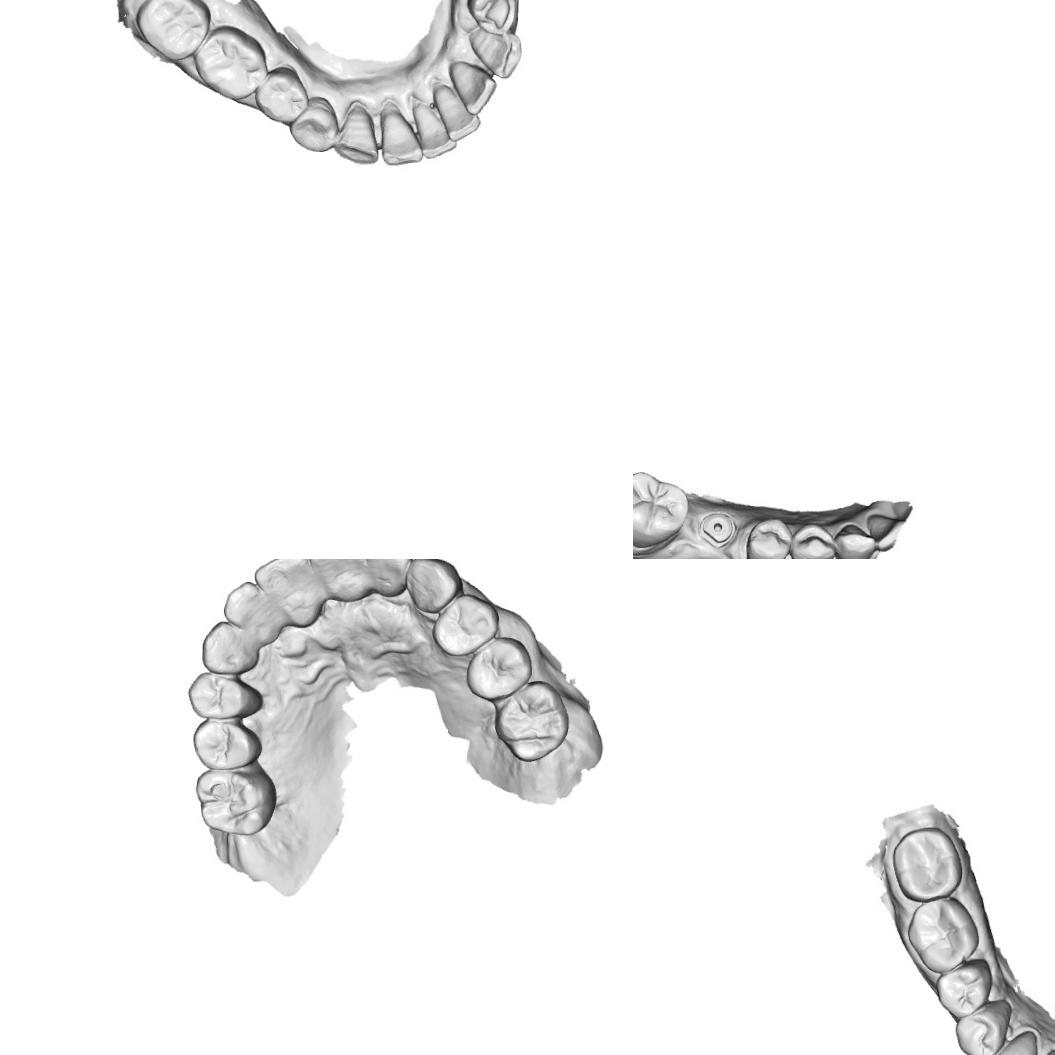canine: (330, 101, 386, 166), (198, 620, 260, 676), (402, 559, 464, 615), (462, 26, 524, 80), (833, 523, 876, 559), (982, 1028, 1039, 1055)
implant: (698, 510, 737, 550)
incisor: (252, 559, 324, 629), (222, 580, 284, 642), (409, 96, 460, 160), (429, 83, 482, 143), (445, 59, 498, 118), (378, 106, 424, 168), (305, 559, 368, 603), (364, 559, 414, 600), (864, 514, 906, 553)
molar: (192, 756, 280, 837), (492, 678, 571, 763), (192, 23, 270, 104), (904, 894, 981, 976), (888, 824, 965, 904), (129, 0, 212, 63), (633, 469, 690, 551)
premolar: (464, 634, 534, 702), (430, 592, 500, 658), (187, 670, 264, 721), (190, 719, 263, 772), (934, 956, 994, 1020), (252, 64, 310, 128), (287, 92, 342, 159), (954, 997, 1013, 1055), (463, 0, 523, 39), (744, 516, 793, 559), (789, 521, 837, 559)
